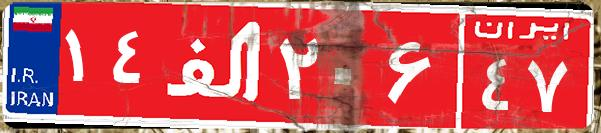0: (330, 28, 385, 110)
1: (57, 26, 110, 107)
2: (273, 28, 330, 110)
4: (475, 38, 525, 113), (110, 28, 158, 105)
6: (385, 28, 445, 110)
7: (525, 38, 570, 115)
الف: (158, 15, 273, 115)
